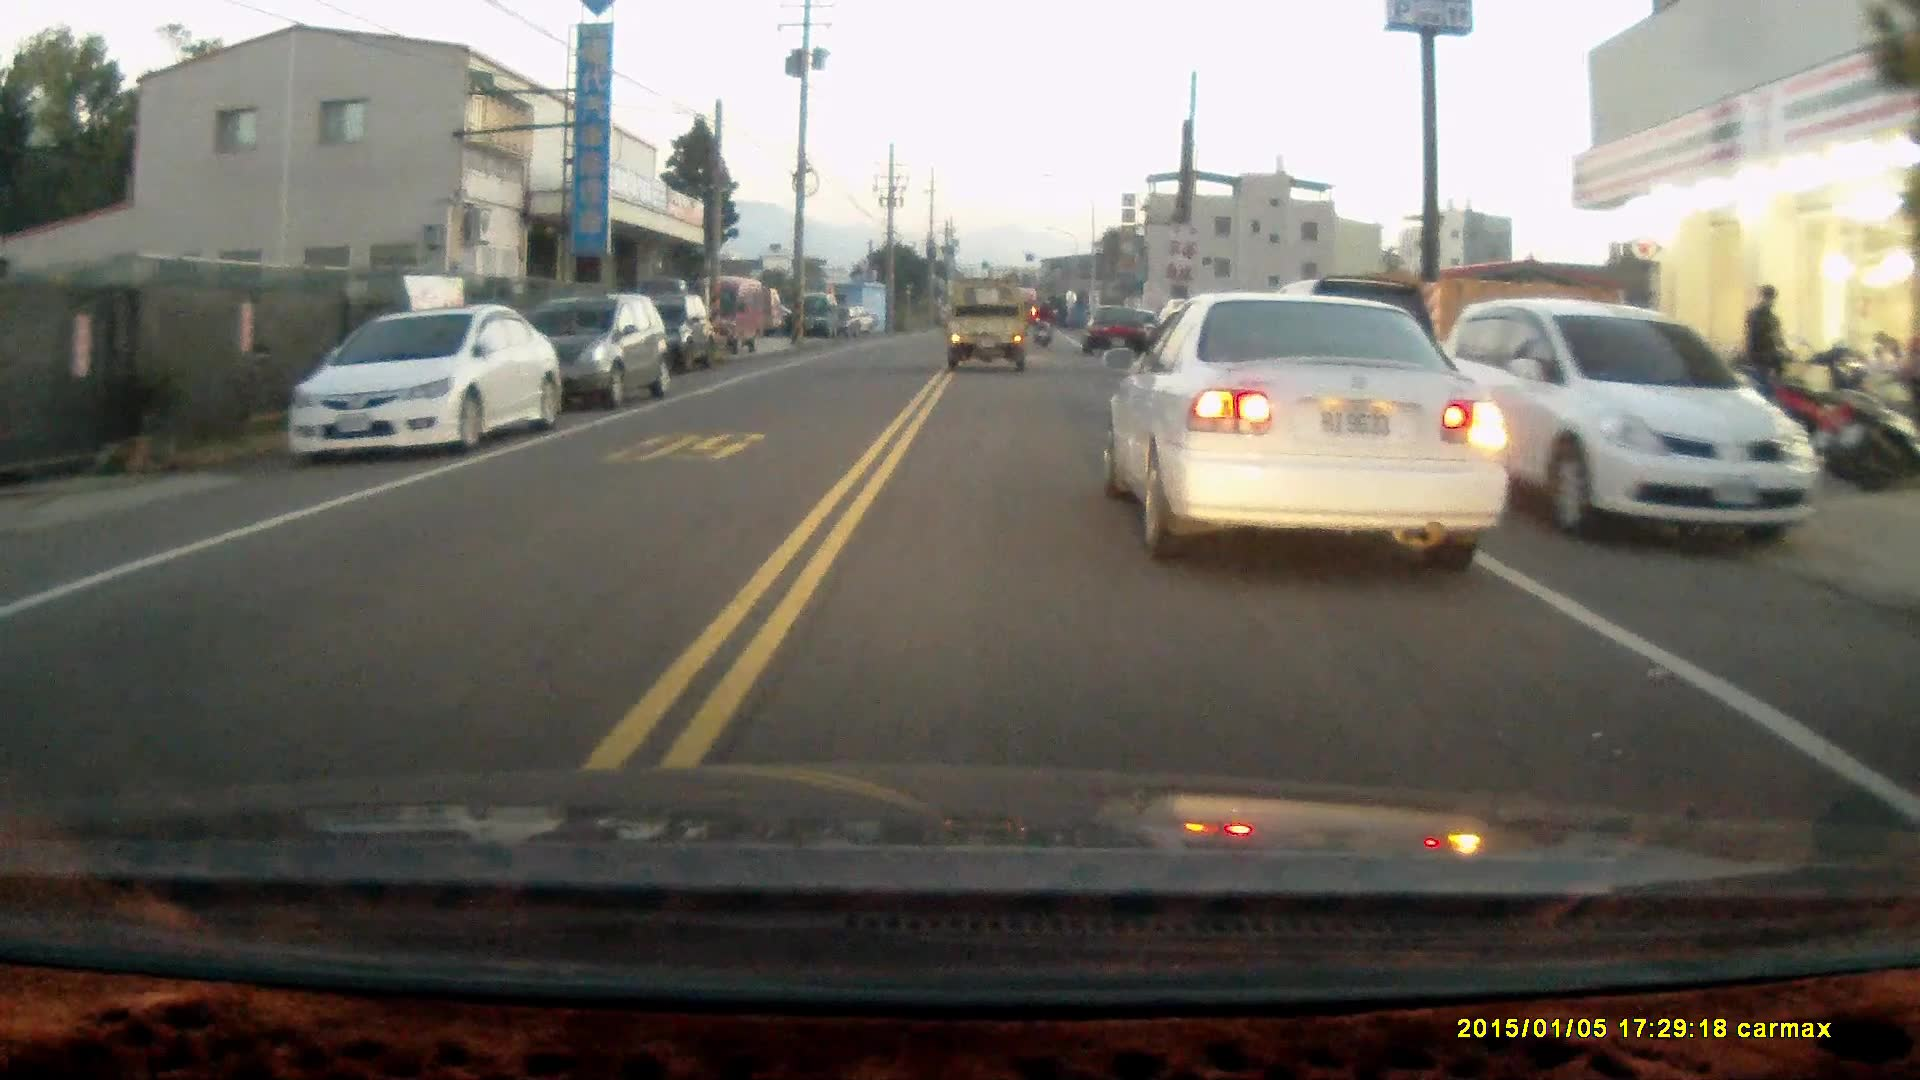pedestrian: (1741, 282, 1787, 397)
rider: (1028, 296, 1055, 344)
vehicle: (1105, 289, 1506, 567), (1431, 294, 1815, 541), (283, 298, 564, 456), (490, 287, 667, 406), (622, 288, 720, 375), (945, 272, 1031, 369), (700, 274, 773, 348), (1089, 304, 1157, 349)
